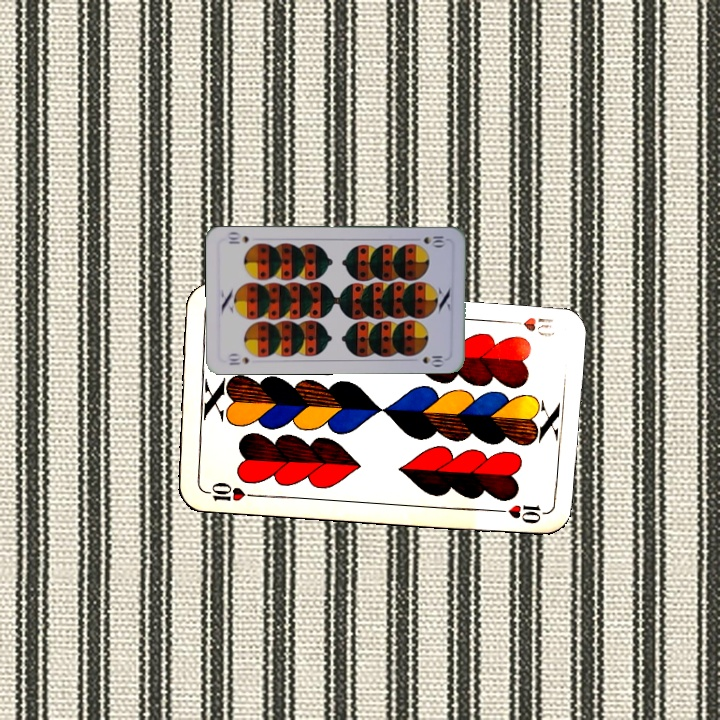H10: (501, 313, 557, 339), (198, 478, 247, 504)
S10: (224, 350, 252, 368), (419, 232, 449, 248)
